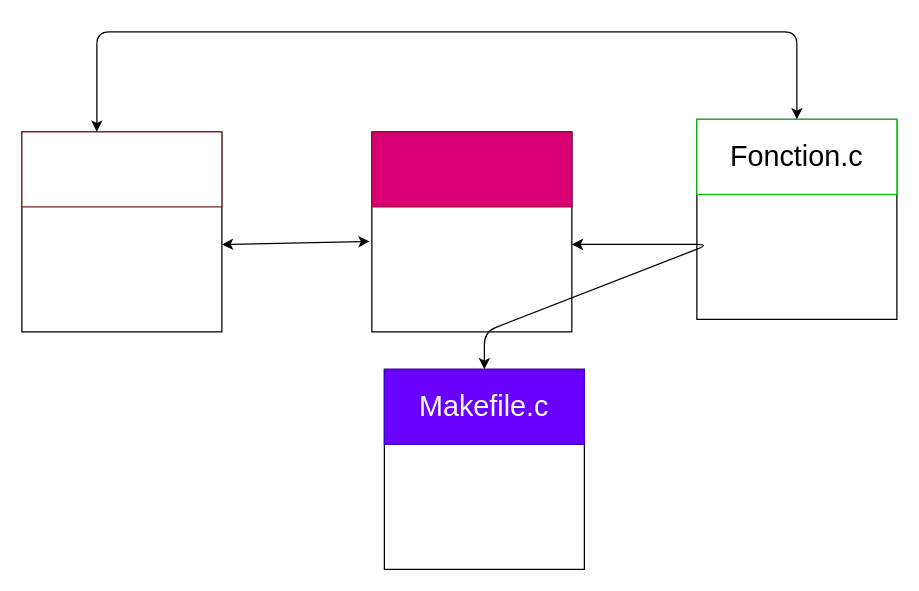
The diagram is 919 pixels wide and 591 high, and some of its shapes have lost their labels. The centre of each missing label's shape, as x and y in pixels:
"Entete.c" goes at (x=121, y=169).
"Main.c" goes at (x=471, y=169).
